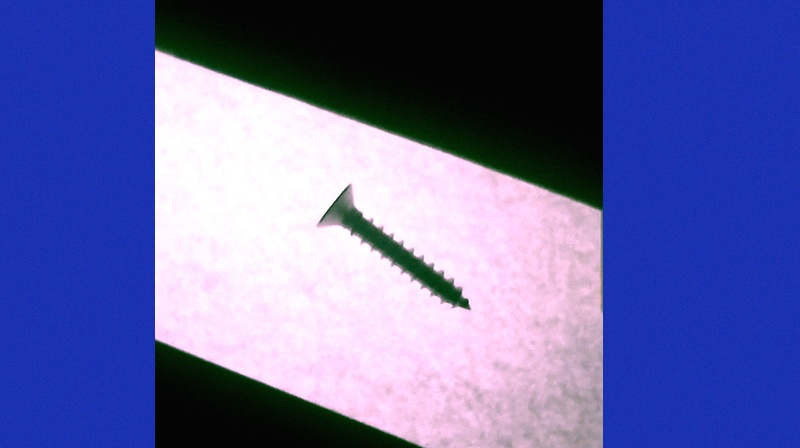S001: (313, 177, 477, 313)
